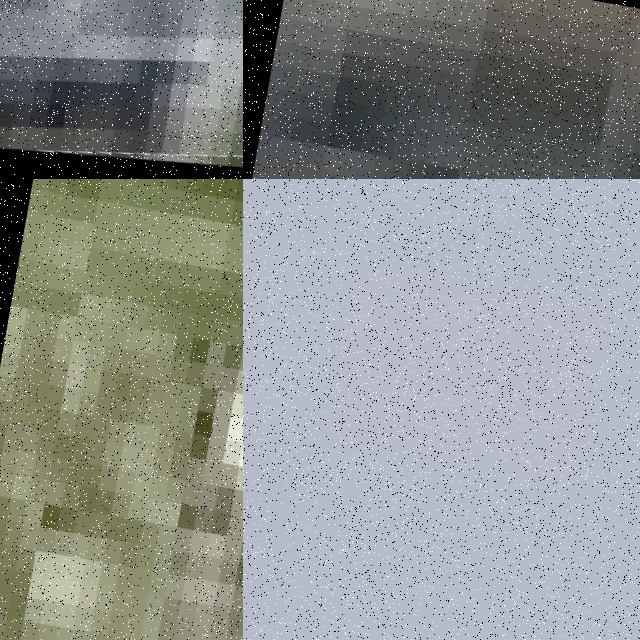drone: (0, 0, 243, 179)
